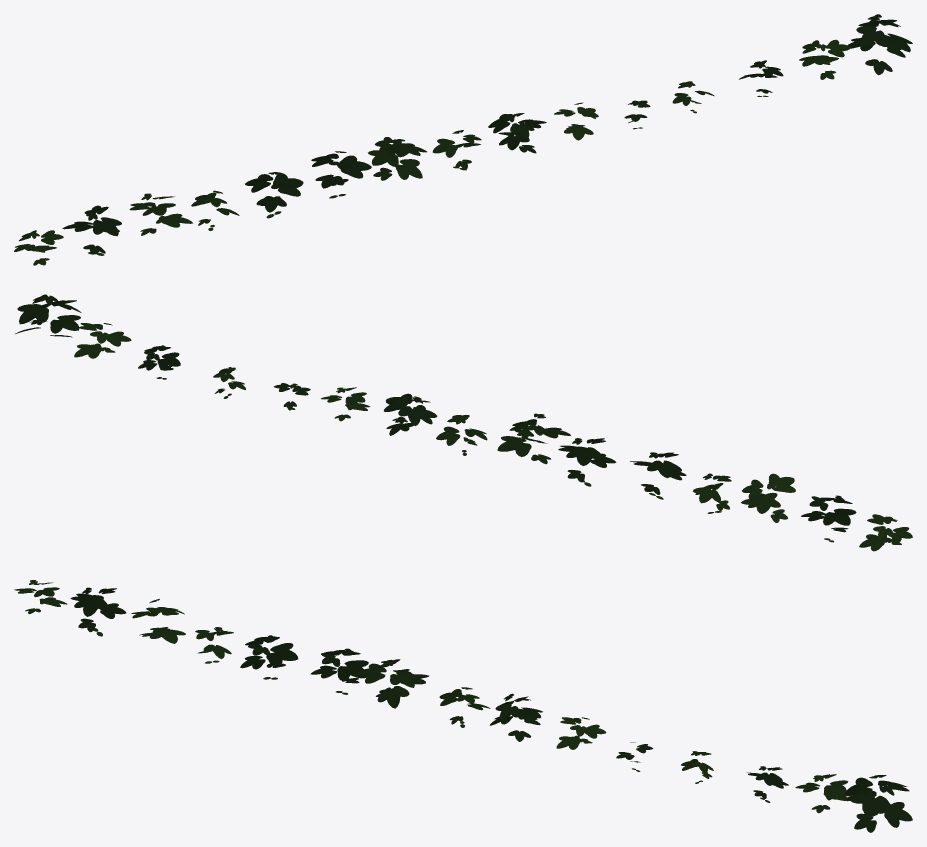
The model's file is ROW_09_SEG0_foliage.dae.
3 renders of one model, top to bottom at view 1: azimuth 30°, elevation 25°; view 2: azimuth 150°, elevation 25°; view 3: azimuth 330°, elevation 25°, orthographic.
Parts seen in each view (by area): view 1: ROW_09_SEG0_foliage; view 2: ROW_09_SEG0_foliage; view 3: ROW_09_SEG0_foliage.
Boxes of the visible parts, bbox=[...] form: ROW_09_SEG0_foliage: bbox=[14, 14, 912, 265]; ROW_09_SEG0_foliage: bbox=[15, 294, 912, 551]; ROW_09_SEG0_foliage: bbox=[14, 580, 912, 832].
Bounding box in the file's own units: 4.5 × 0.3558 × 0.2584.
